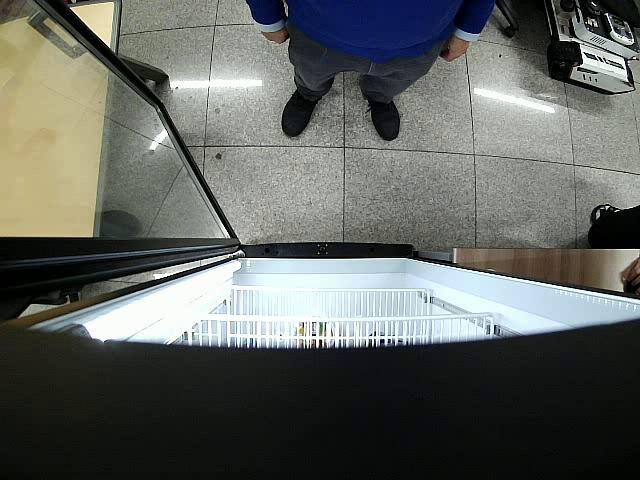00_hand: (439, 36, 470, 63)
